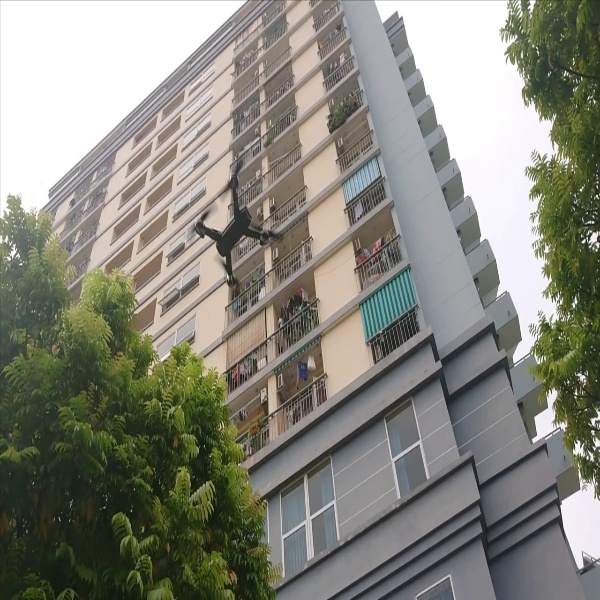drone: (188, 156, 279, 291)
